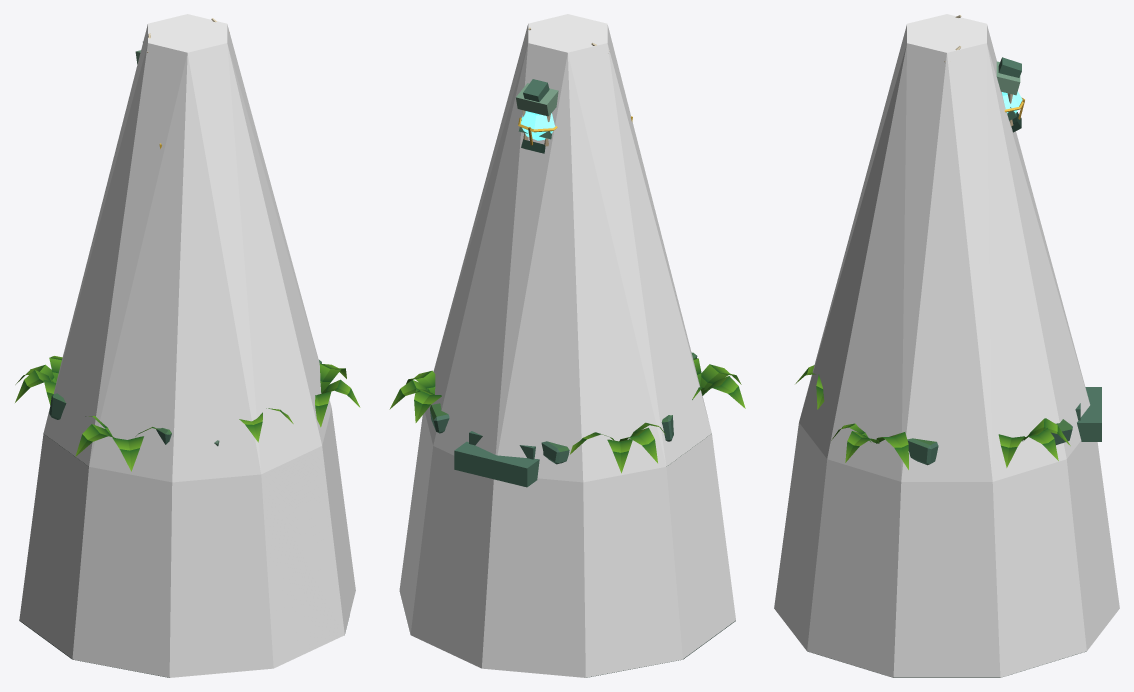
The model's file is ancient_jade_serpent_totem.glb.
3 views of the same model, side by side, from view 1: azimuth 30°, elevation 25°; view 2: azimuth 150°, elevation 25°; view 3: azimuth 270°, elevation 25° (orthographic).
Parts seen in each view (by area): view 1: col_serpent_base, AncientJadeSerpentTotem; view 2: col_serpent_base, AncientJadeSerpentTotem; view 3: col_serpent_base, AncientJadeSerpentTotem.
Boxes of the visible parts, left/top/right/bottom form: col_serpent_base: left=19, top=14, right=355, bottom=677; AncientJadeSerpentTotem: left=15, top=18, right=360, bottom=677; col_serpent_base: left=399, top=14, right=735, bottom=677; AncientJadeSerpentTotem: left=389, top=27, right=745, bottom=677; col_serpent_base: left=774, top=14, right=1119, bottom=677; AncientJadeSerpentTotem: left=795, top=15, right=1101, bottom=677.
Bounding box in the file's own units: 5.35 × 10.25 × 5.56.
